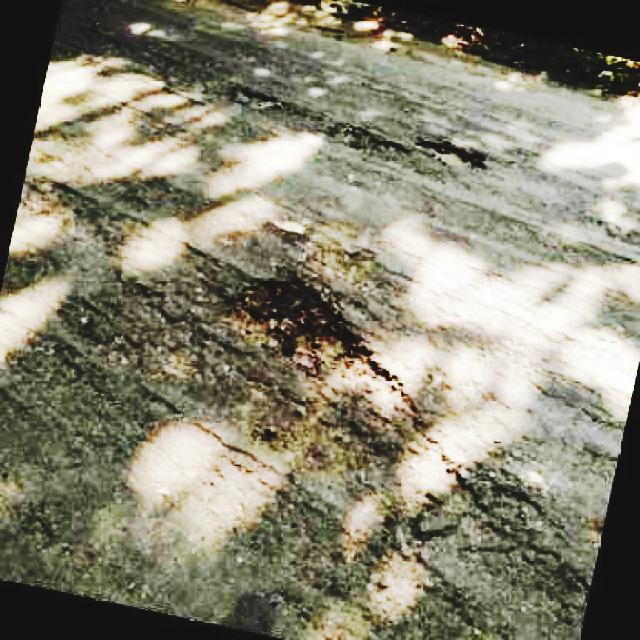pothole: (228, 274, 384, 381), (420, 134, 488, 169)
